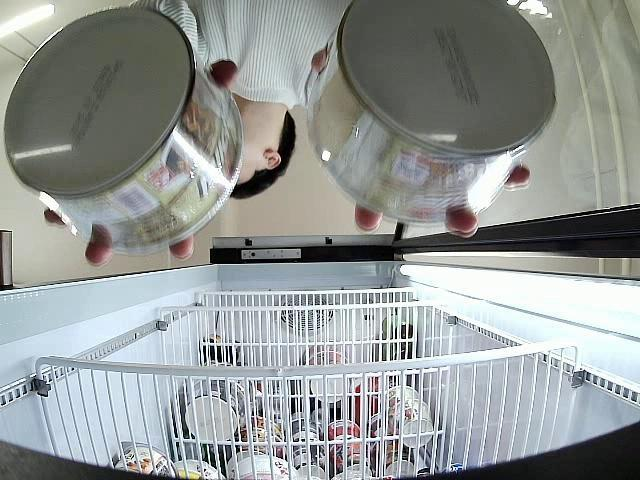03_chapagetti_L: (4, 6, 243, 258), (306, 0, 556, 225)
